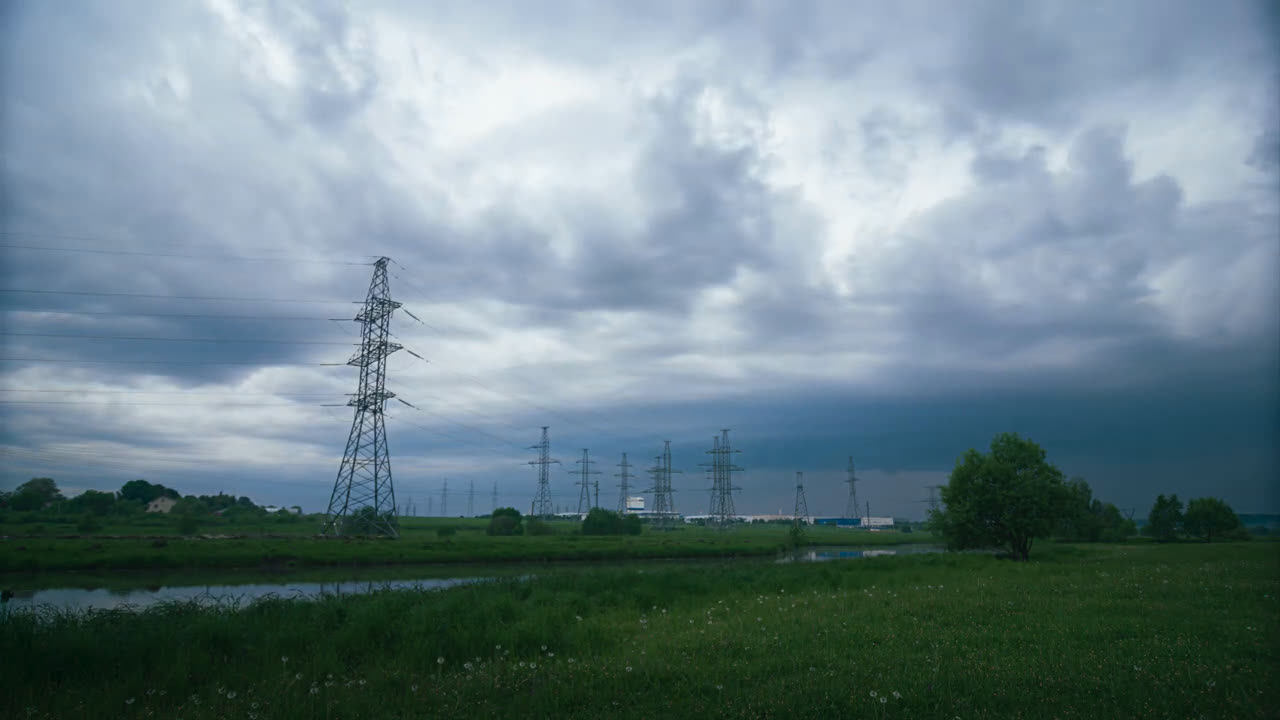FFD: (1040, 453, 1280, 517)
mesocyclone: (522, 407, 1277, 467)
striations: (610, 424, 892, 457)
wall cloud: (868, 463, 936, 476)
